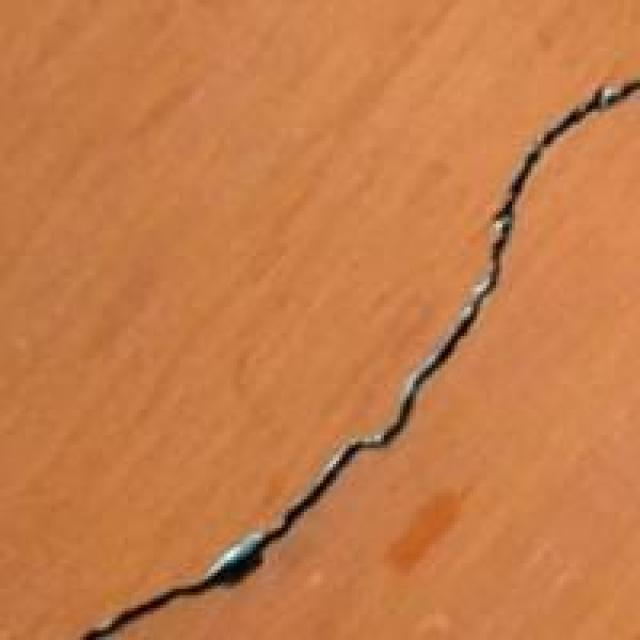Crack: (61, 83, 637, 637)
